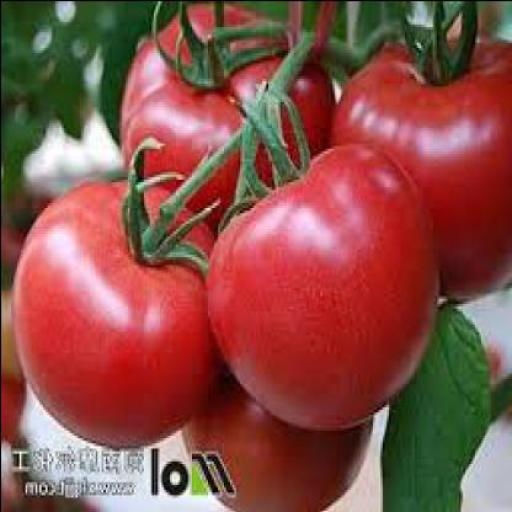biodegradable: (204, 85, 442, 427), (12, 132, 221, 448), (328, 17, 510, 299), (119, 1, 336, 233), (181, 360, 375, 510)
